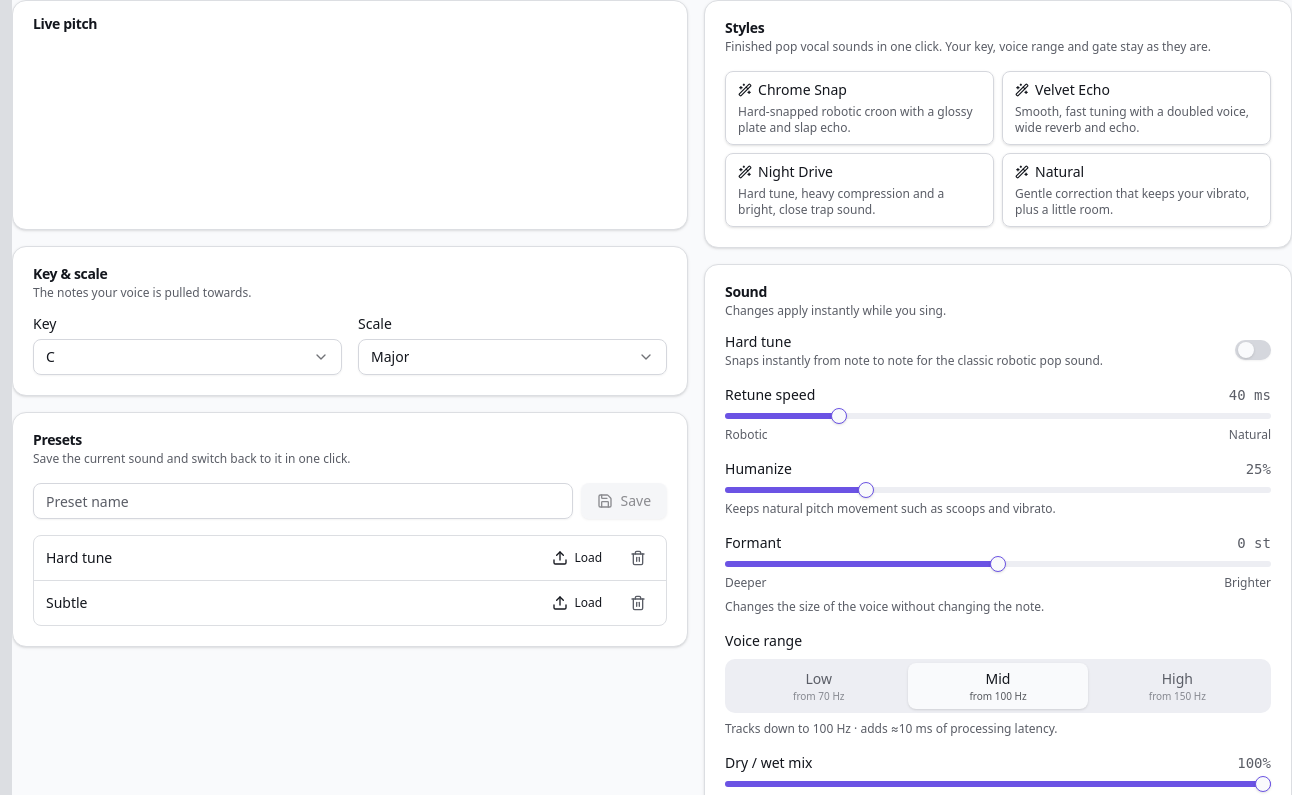
Test: TunePanel (FR-06 – FR-11) › FR-06: changing the key sends only { key }
Click the dropdown named "Key" at (50, 356), box [33,339,342,375]
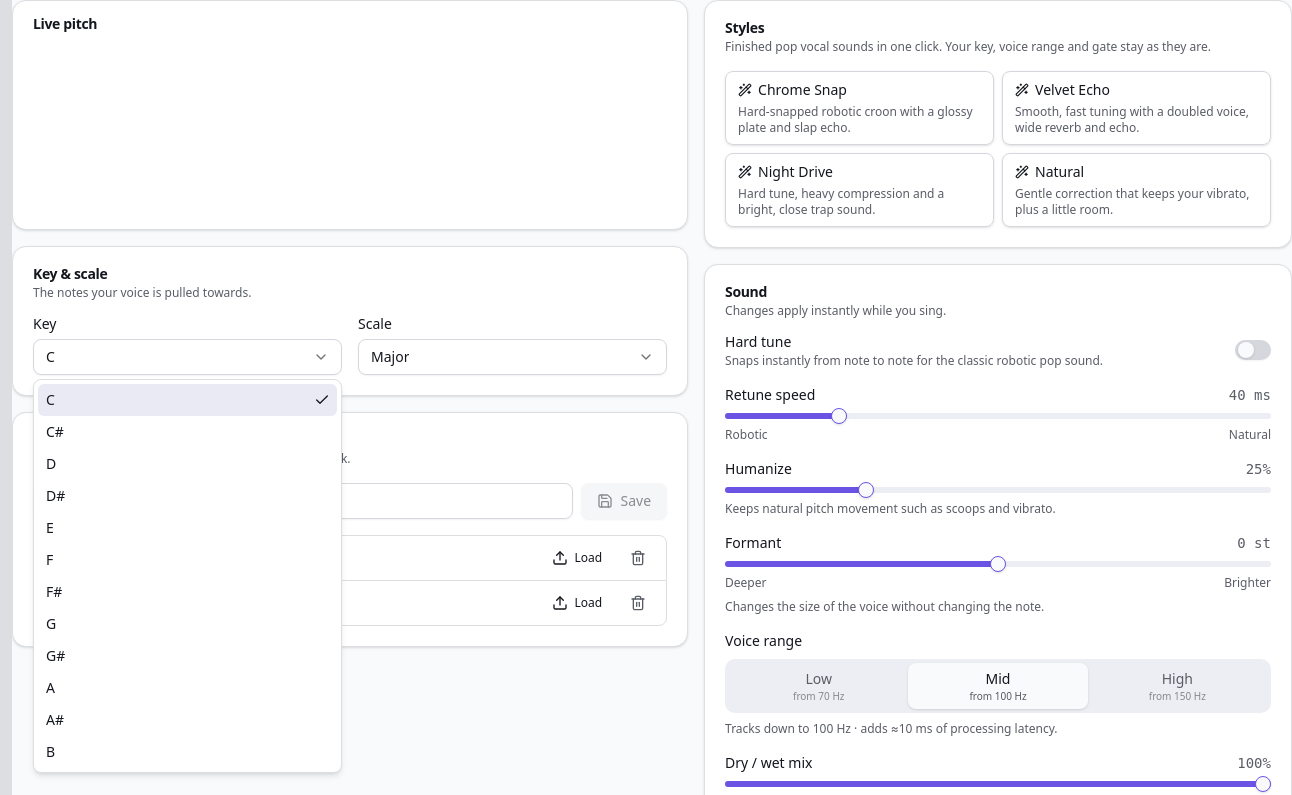
Click the option "D" at (51, 464), box [46,454,56,473]
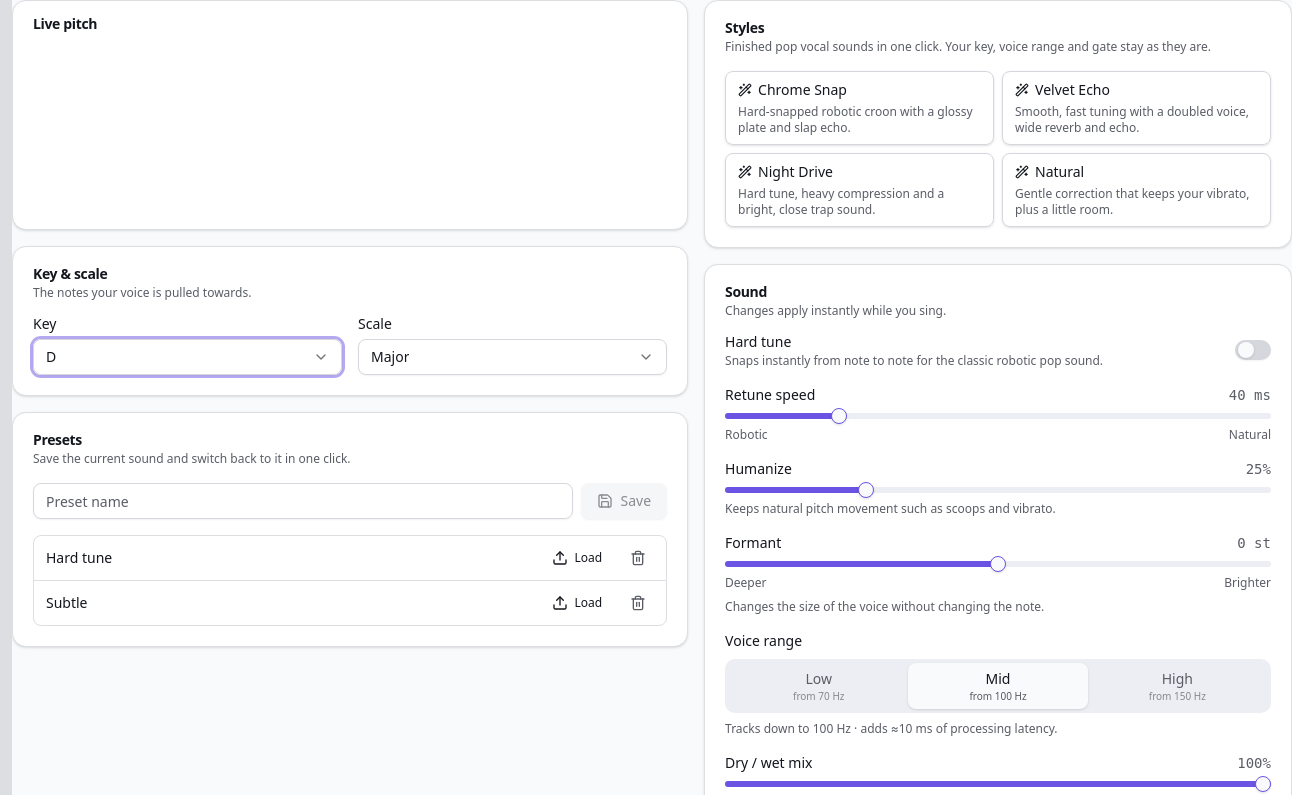
Check: the dropdown named "Key" reads "D", box [33,339,342,375]
